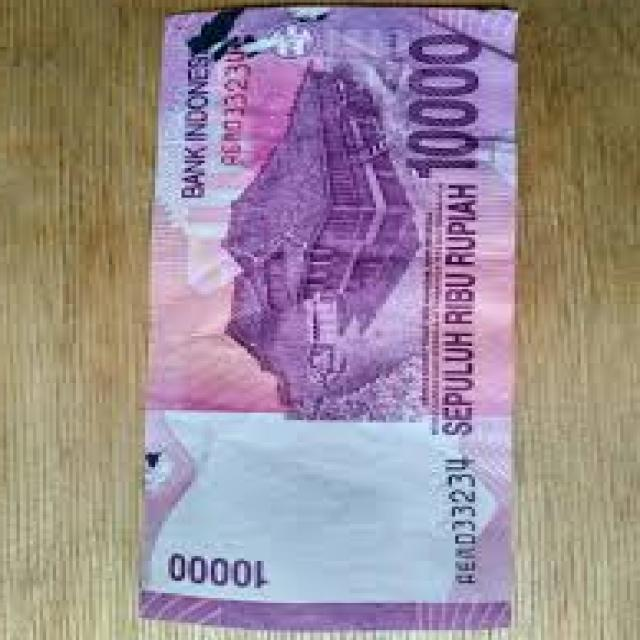sepuluh ribu rupiah: (139, 4, 513, 619)
